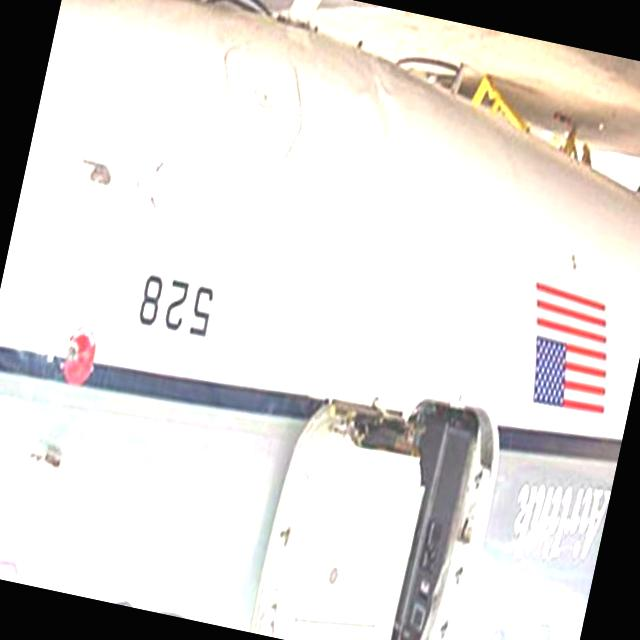dent: (291, 54, 413, 174)
